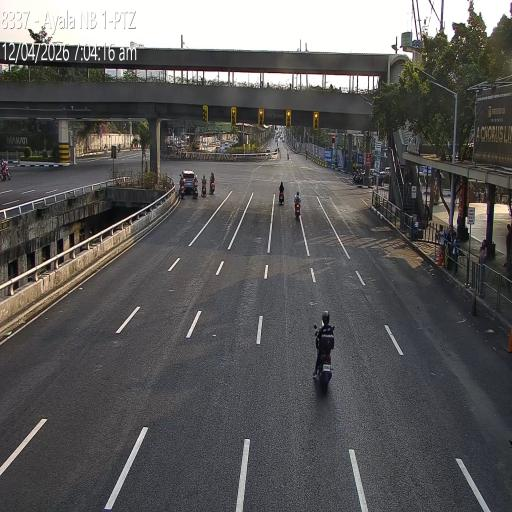Car: (181, 170, 197, 196)
Motor: (313, 324, 335, 393), (1, 161, 11, 182), (293, 192, 301, 217), (209, 171, 216, 195), (354, 168, 363, 185), (192, 179, 199, 198), (179, 177, 185, 197), (359, 169, 366, 186), (278, 188, 284, 206), (201, 179, 207, 197), (352, 170, 358, 184), (104, 143, 108, 156)
Not Accident: (178, 166, 199, 202)
